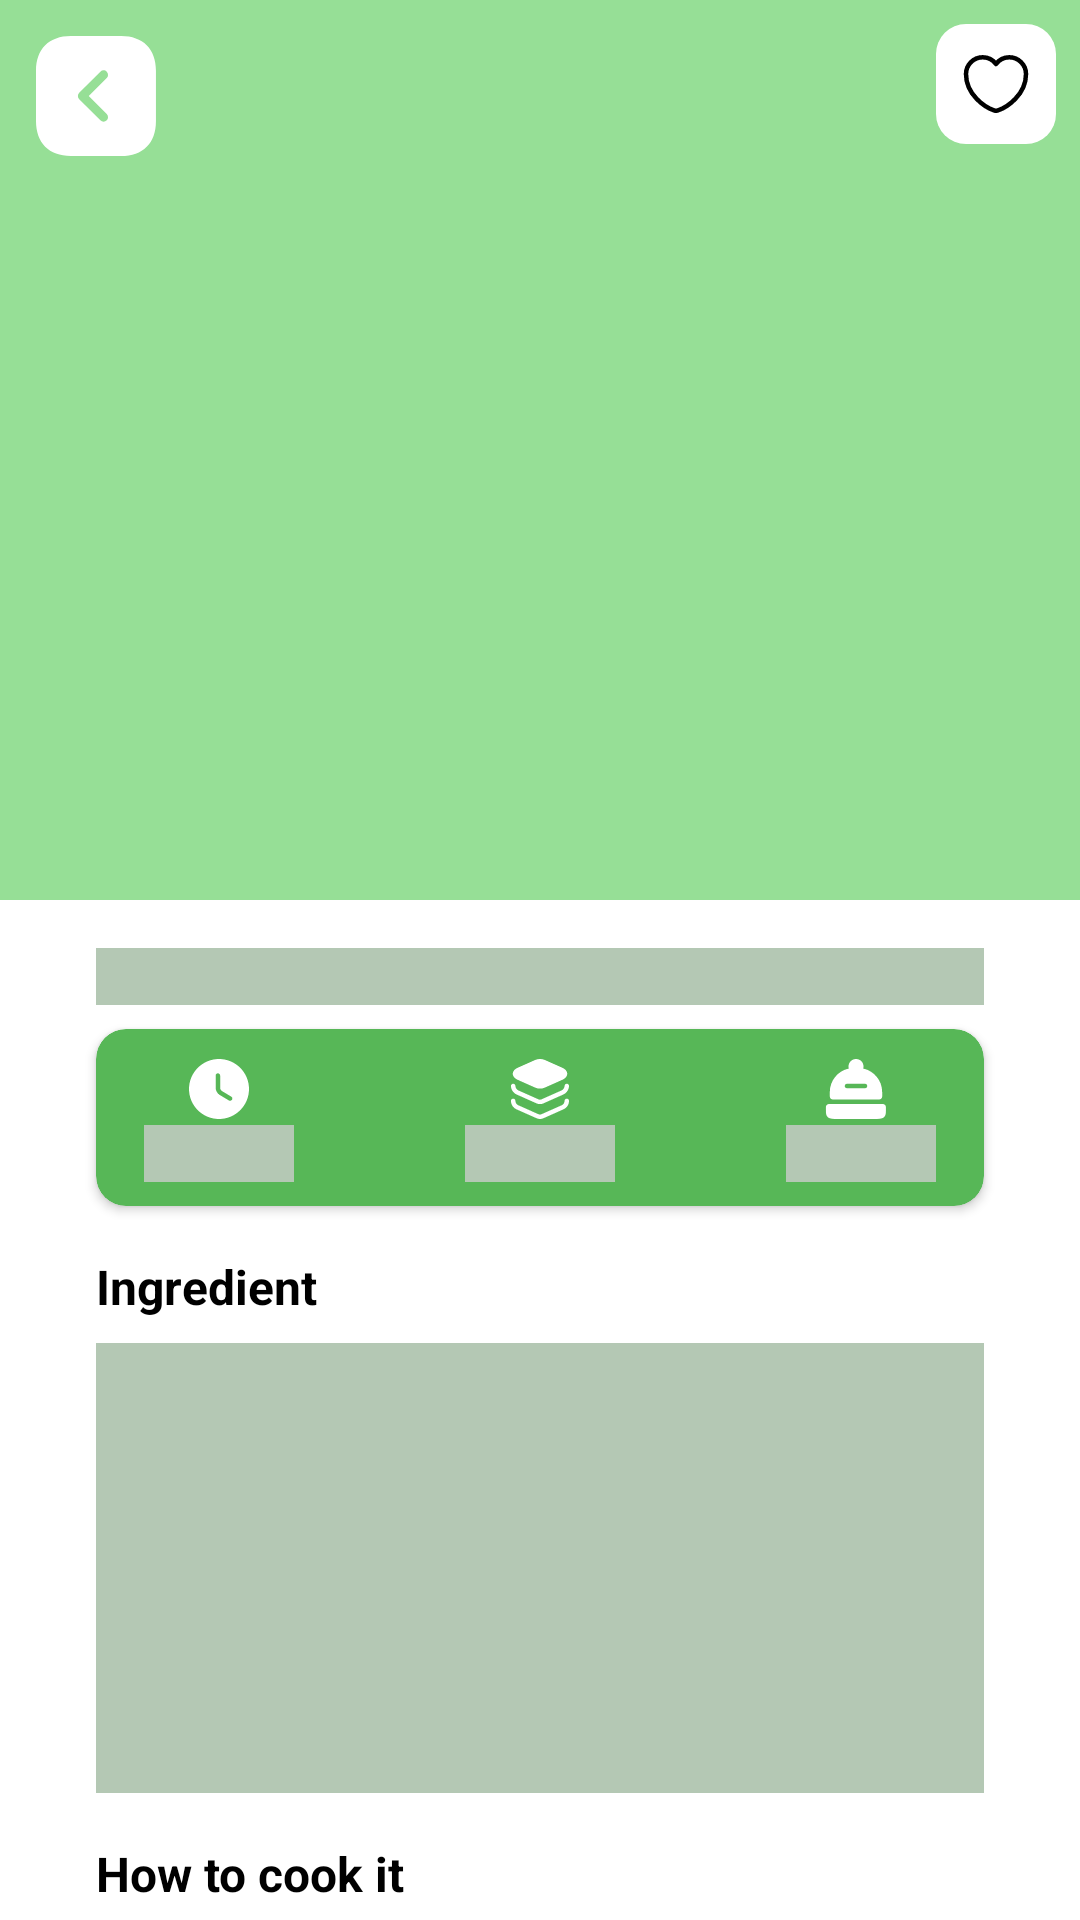

Icon bounding boxes for this 1080×1920 phone screenshot, format Rect(x1, y1, x2, y2):
arrow square left: Rect(36, 36, 156, 156)
clock: Rect(189, 1059, 249, 1119)
lovedetail: Rect(936, 24, 1056, 144)
reserve: Rect(826, 1059, 886, 1119)
